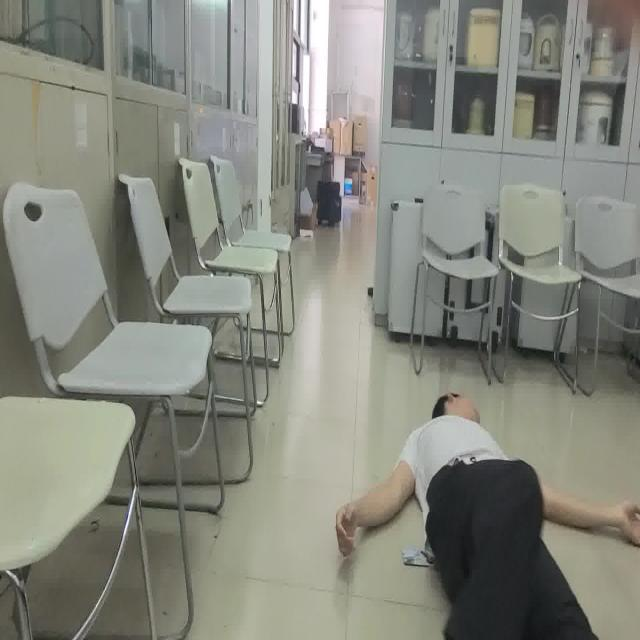Fall: (336, 375, 640, 640)
